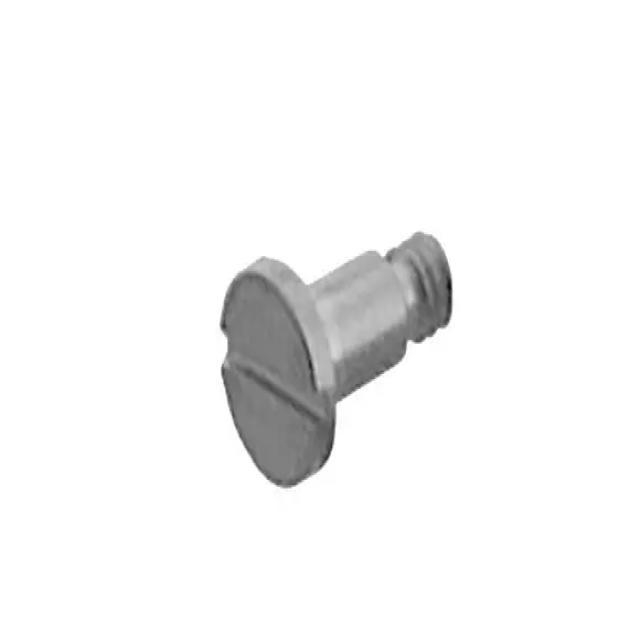duz: (218, 256, 338, 490)
